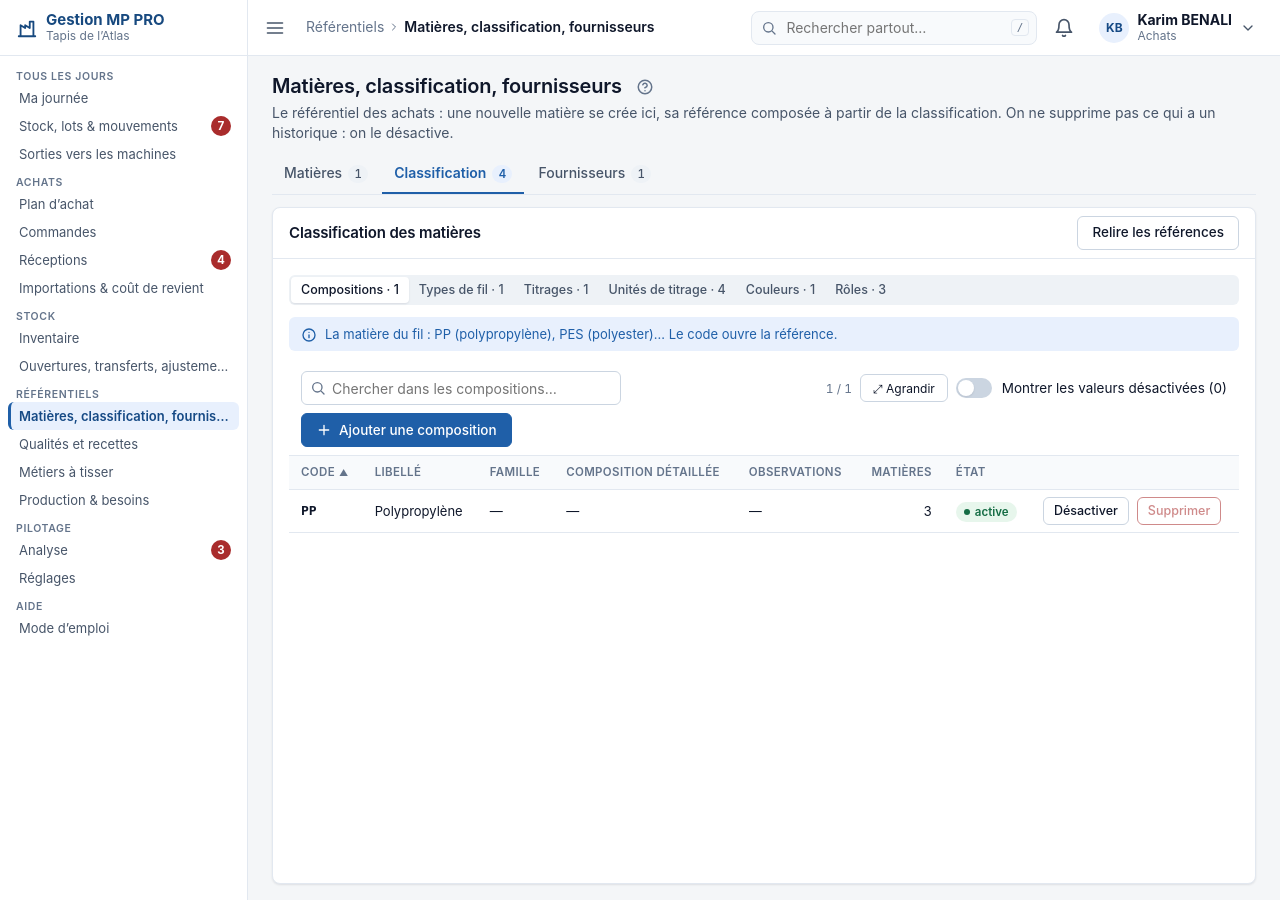
Classification › désactiver « PP » : confirmé sur la ligne, avertissement du serveur dit
The image size is (1280, 900).
(page scrolled)
Click the button "Désactiver": (1086, 511) [1043,497,1129,525]
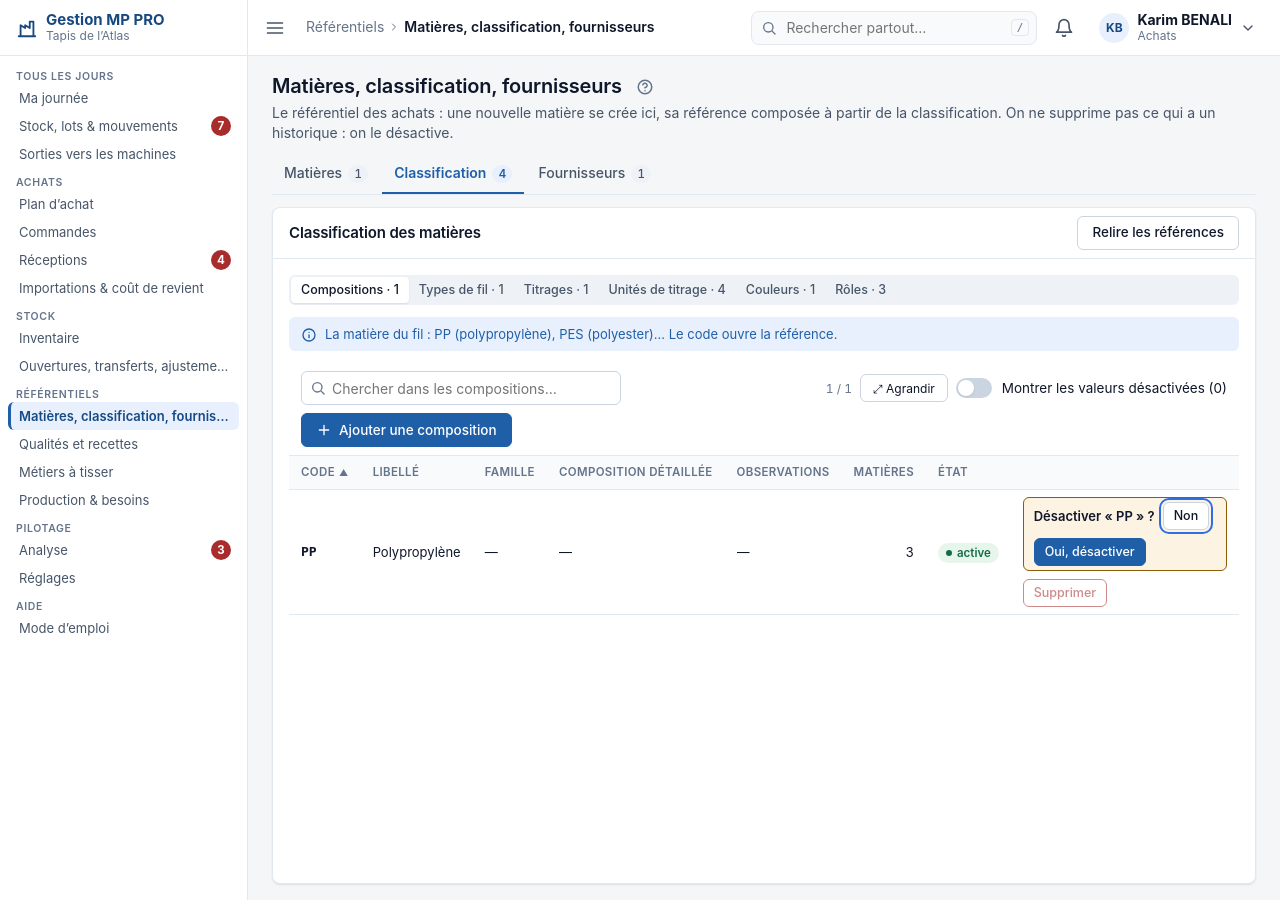
Click the button "Oui, désactiver": (1090, 552) [1034,538,1146,566]
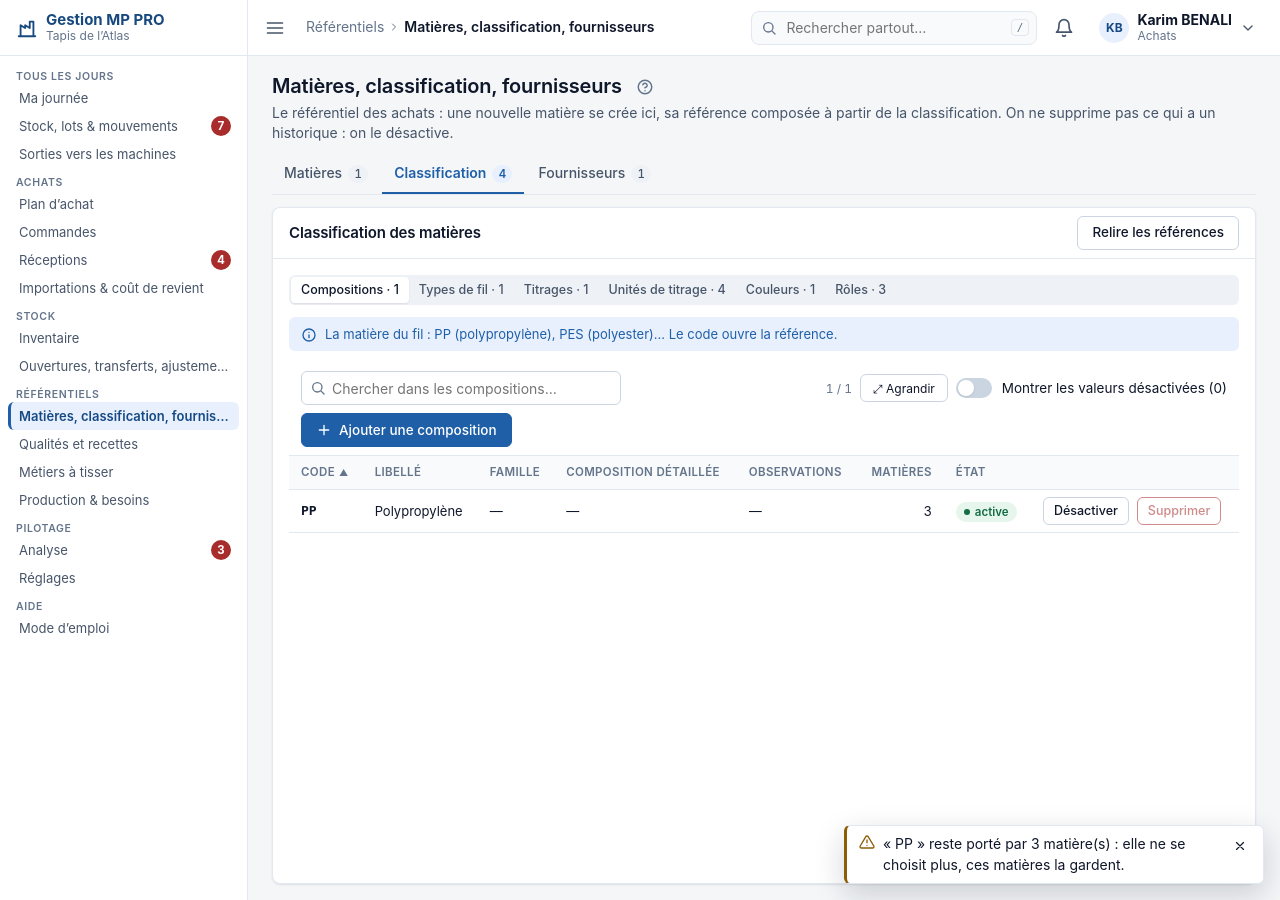
Now the text "reste porté par 3 matière(s)" is shown, box [883,835,1185,873]
